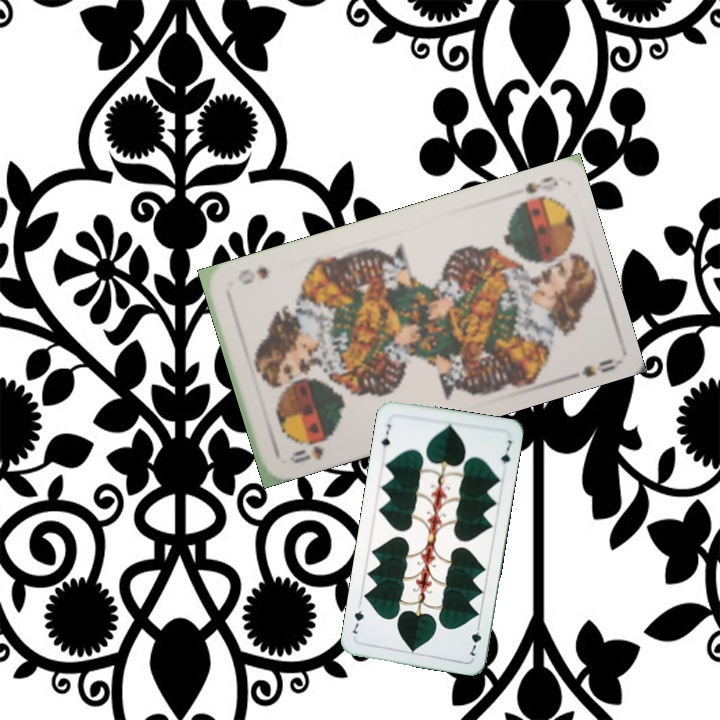G7: (464, 619, 484, 658), (377, 419, 393, 449)
SO: (521, 172, 561, 197), (286, 442, 326, 466)
